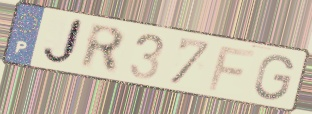3: (127, 32, 166, 81)
7: (169, 35, 212, 87)
F: (205, 45, 258, 93)
G: (252, 53, 296, 103)
J: (40, 16, 87, 69)
R: (78, 21, 127, 77)
